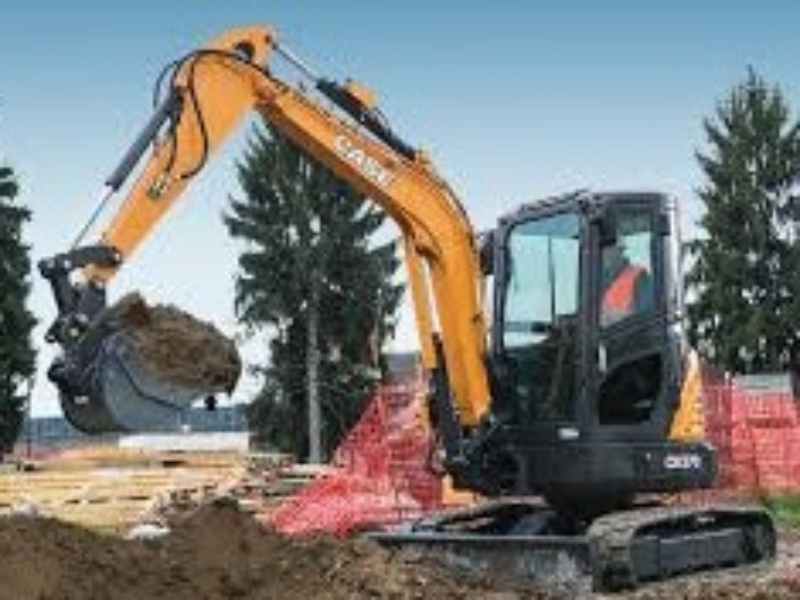wajueji: (376, 137, 800, 591)
